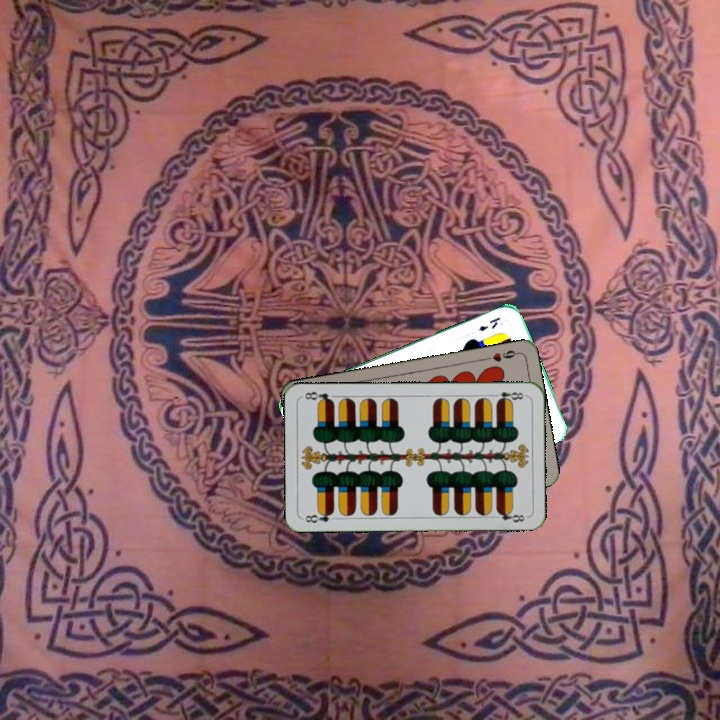E8: (300, 507, 337, 526), (488, 388, 528, 405)
EK: (474, 313, 502, 334)
H9: (481, 346, 521, 364)
